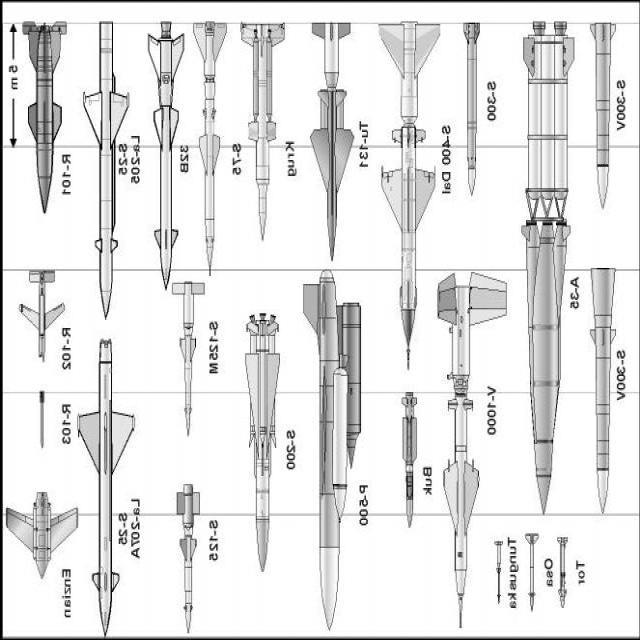Missile: (510, 213, 579, 515), (75, 22, 137, 334), (581, 248, 622, 521), (579, 17, 624, 198), (455, 12, 485, 202)
